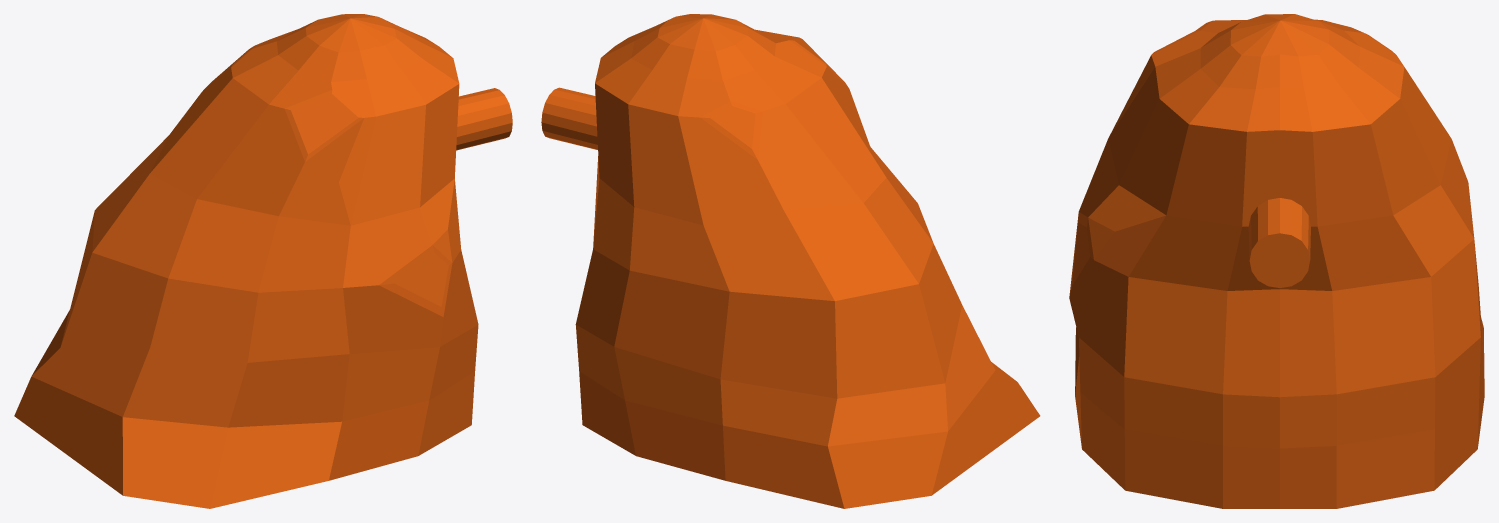
Rendered from DrawBridgeRockl.fbx.
3 renders of one model, left to right at view 1: azimuth 30°, elevation 25°; view 2: azimuth 150°, elevation 25°; view 3: azimuth 270°, elevation 25°, orthographic. The views are drawn at different scales.
Visible parts, largest first — view 1: CohHolder; view 2: CohHolder; view 3: CohHolder.
Boxes of the visible parts, bbox=[...] form: CohHolder: bbox=[14, 14, 512, 508]; CohHolder: bbox=[541, 14, 1040, 508]; CohHolder: bbox=[1069, 14, 1484, 508].
Size of the model in its own units: 222 by 183 by 158.
